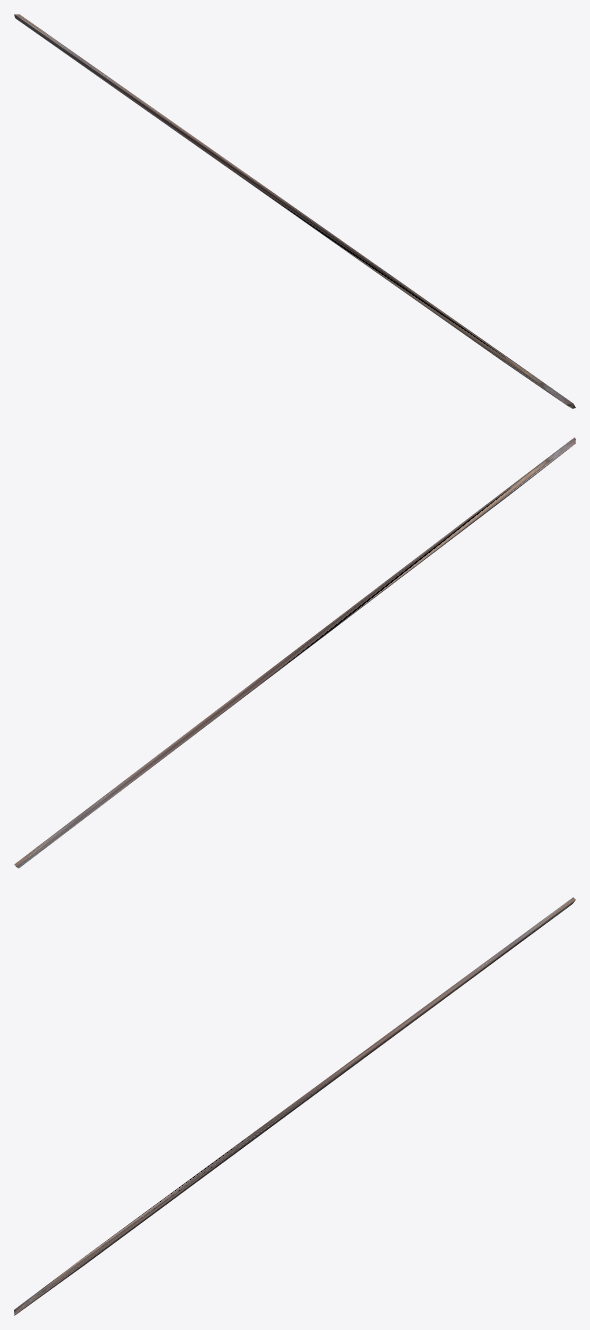
Rendered from leadanimal.glb.
3 renders of one model, top to bottom at view 1: azimuth 30°, elevation 25°; view 2: azimuth 150°, elevation 25°; view 3: azimuth 330°, elevation 25°, orthographic. The views are drawn at different scales.
Parts seen in each view (by area): view 1: Cylinder; view 2: Cylinder; view 3: Cylinder.
Part boxes in pixels (x1=…): Cylinder: x1=14, y1=14, x2=575, y2=408; Cylinder: x1=14, y1=437, x2=575, y2=868; Cylinder: x1=14, y1=897, x2=575, y2=1315.
Bounding box in the file's own units: 0.5824 × 0.4489 × 39.99.
Materials: 1 (1 with a texture image).
